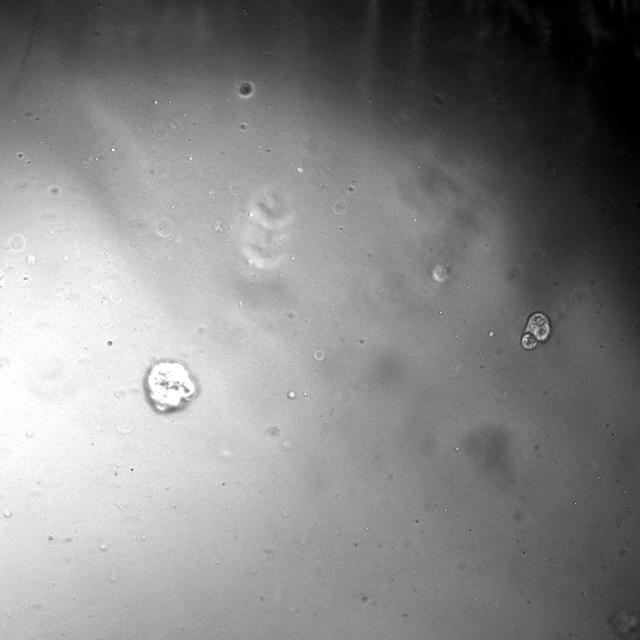organoid: (143, 360, 196, 412), (521, 312, 550, 350), (236, 80, 255, 98)
